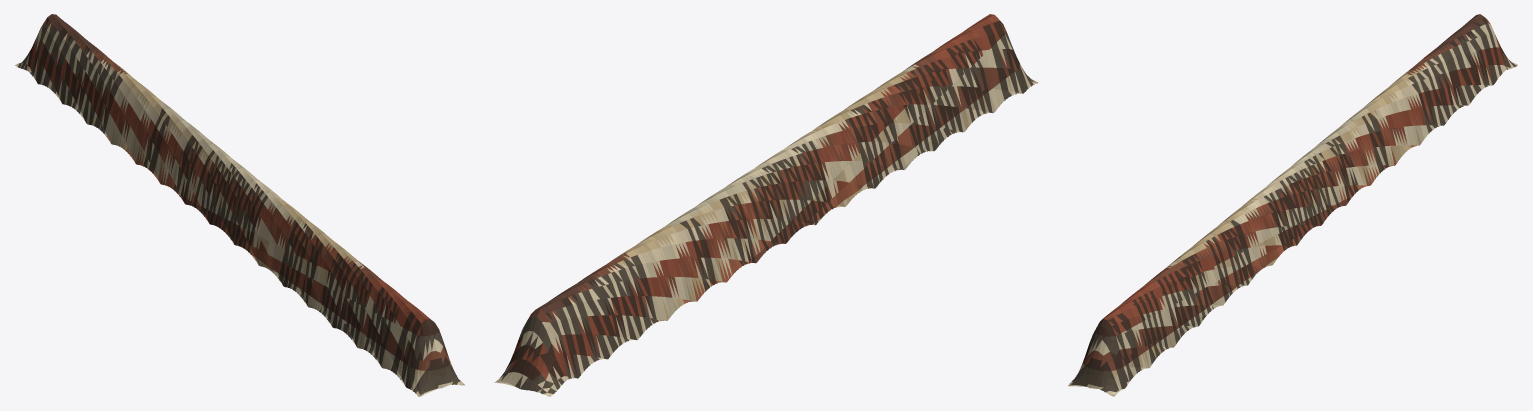
Rendered from dam_slot_fin_east.glb.
The picture shows the model from 3 angles, left to right: view 1: azimuth 30°, elevation 25°; view 2: azimuth 150°, elevation 25°; view 3: azimuth 330°, elevation 25°; orthographic projection. The views are drawn at different scales.
Visible parts, largest first — view 1: dam_slot_fin_east; view 2: dam_slot_fin_east; view 3: dam_slot_fin_east.
Part boxes in pixels (box(x1,y1,x2,y2)): dam_slot_fin_east: box(15, 14, 464, 396); dam_slot_fin_east: box(494, 14, 1038, 396); dam_slot_fin_east: box(1068, 14, 1517, 396).
Size of the model in its own units: 22 by 41.64 by 332.
